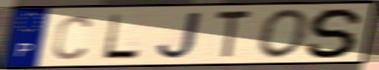C: (51, 13, 94, 61)
J: (154, 10, 206, 61)
L: (100, 12, 143, 61)
O: (256, 8, 313, 61)
S: (304, 7, 367, 60)
T: (214, 8, 254, 61)
